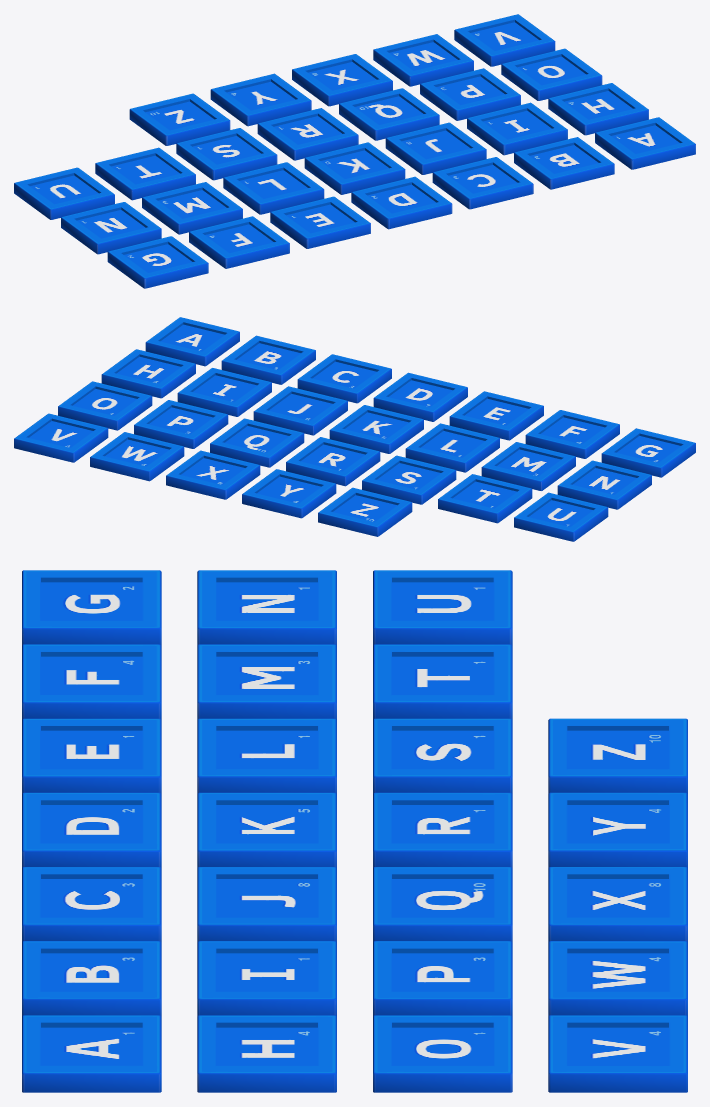
The model's file is BlueLetterTiles.fbx.
3 views of the same model, one above another, from view 1: azimuth 30°, elevation 25°; view 2: azimuth 150°, elevation 25°; view 3: azimuth 270°, elevation 25° (orthographic). The views are drawn at different scales.
Visible parts, largest first — view 1: G, D, C, B, F, A, E, L, R, J, K, V (+14 smaller); view 2: Z, U, X, Y, T, V, W, O, J, Q, A, E (+14 smaller); view 3: O, A, H, V, G, M, N, T, U, S, P, B (+14 smaller).
Part boxes in pixels (x1=…): G: x1=107, y1=236, x2=208, y2=288; D: x1=351, y1=176, x2=452, y2=229; C: x1=432, y1=157, x2=533, y2=209; B: x1=514, y1=137, x2=614, y2=189; F: x1=189, y1=216, x2=289, y2=268; A: x1=595, y1=117, x2=695, y2=169; E: x1=270, y1=196, x2=370, y2=248; L: x1=223, y1=162, x2=324, y2=214; R: x1=257, y1=108, x2=358, y2=160; J: x1=385, y1=122, x2=486, y2=174; K: x1=304, y1=142, x2=405, y2=194; V: x1=454, y1=14, x2=555, y2=66; Z: x1=318, y1=487, x2=412, y2=536; U: x1=514, y1=492, x2=608, y2=541; X: x1=166, y1=450, x2=260, y2=499; Y: x1=242, y1=469, x2=336, y2=518; T: x1=438, y1=474, x2=532, y2=523; V: x1=14, y1=413, x2=108, y2=462; W: x1=90, y1=432, x2=184, y2=481; O: x1=58, y1=381, x2=152, y2=430; J: x1=253, y1=386, x2=347, y2=435; Q: x1=210, y1=418, x2=304, y2=467; A: x1=145, y1=317, x2=239, y2=366; E: x1=449, y1=391, x2=543, y2=440; O: x1=373, y1=1015, x2=512, y2=1092; A: x1=22, y1=1015, x2=161, y2=1092; H: x1=197, y1=1015, x2=336, y2=1092; V: x1=548, y1=1015, x2=687, y2=1092; G: x1=22, y1=570, x2=161, y2=645; M: x1=197, y1=644, x2=336, y2=719; N: x1=197, y1=570, x2=336, y2=645; T: x1=373, y1=644, x2=512, y2=719; U: x1=373, y1=570, x2=512, y2=645; S: x1=373, y1=718, x2=512, y2=793; P: x1=373, y1=941, x2=512, y2=1016; B: x1=22, y1=941, x2=161, y2=1016.
Bounding box in the file's own units: 13.59 × 0.239 × 7.59.
